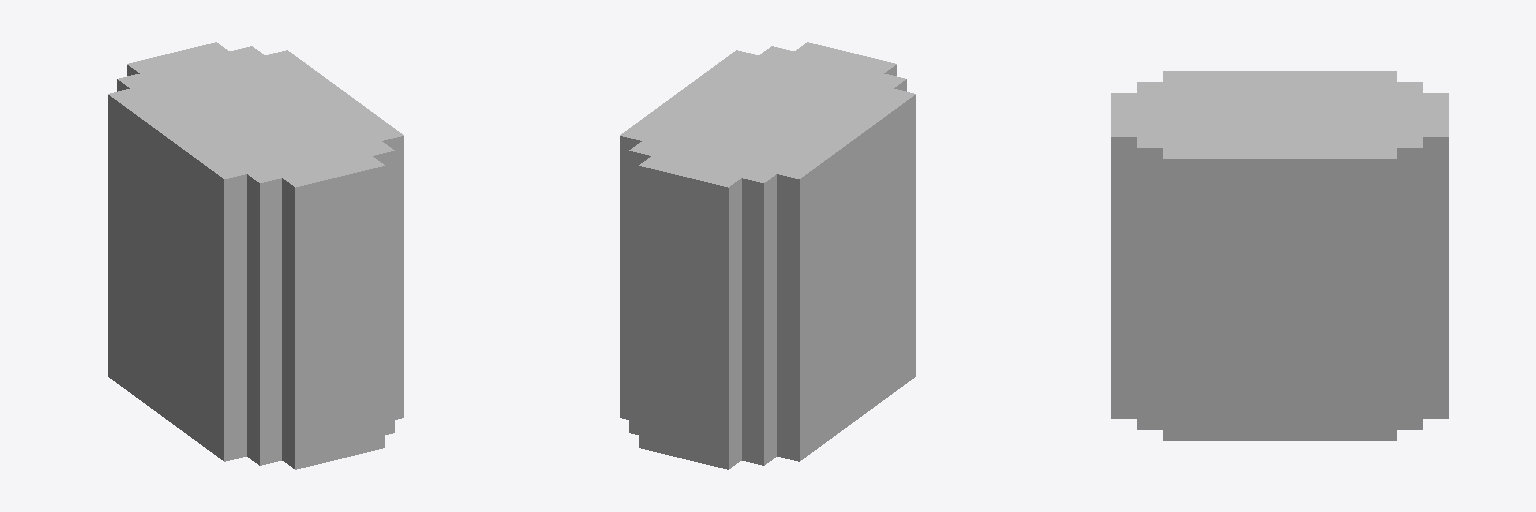
The model's file is мешок с песком.obj.
3 renders of one model, left to right at view 1: azimuth 30°, elevation 25°; view 2: azimuth 150°, elevation 25°; view 3: azimuth 270°, elevation 25°, orthographic.
Visible parts, largest first — view 1: object 1; view 2: object 1; view 3: object 1.
Boxes of the visible parts, x1=… form: object 1: x1=108, y1=42, x2=403, y2=469; object 1: x1=620, y1=42, x2=915, y2=469; object 1: x1=1111, y1=71, x2=1448, y2=440.
Bounding box in the file's own units: 0.8 × 1.2 × 1.3.